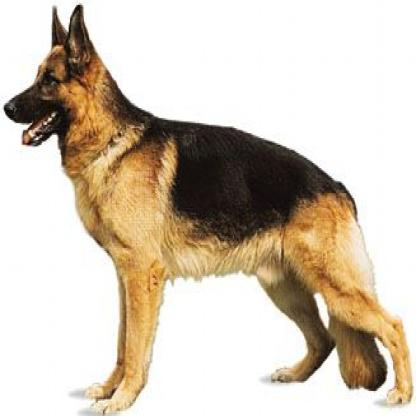dog: (1, 5, 416, 416)
